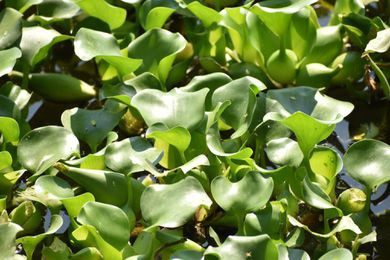water_hyacinth: (1, 1, 389, 258)
